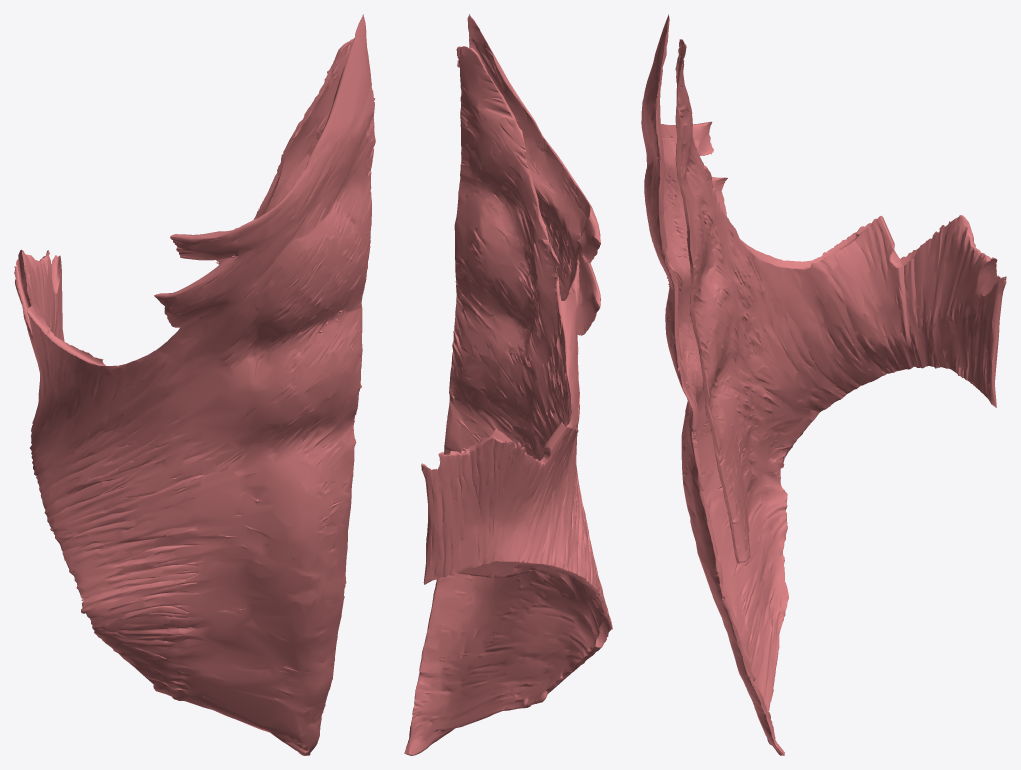
File: BP3D3_FMA13892.glb
3 views of the same model, side by side, from view 1: azimuth 30°, elevation 25°; view 2: azimuth 150°, elevation 25°; view 3: azimuth 270°, elevation 25° (orthographic). The views are drawn at different scales.
Visible parts, largest first — view 1: BP3D3_FMA13892; view 2: BP3D3_FMA13892; view 3: BP3D3_FMA13892.
Boxes of the visible parts, <box> form: BP3D3_FMA13892: <box>14,14,375,755</box>; BP3D3_FMA13892: <box>404,14,612,755</box>; BP3D3_FMA13892: <box>641,14,1006,755</box>.
Bounding box in the file's own units: 0.1199 × 0.3772 × 0.1691.
